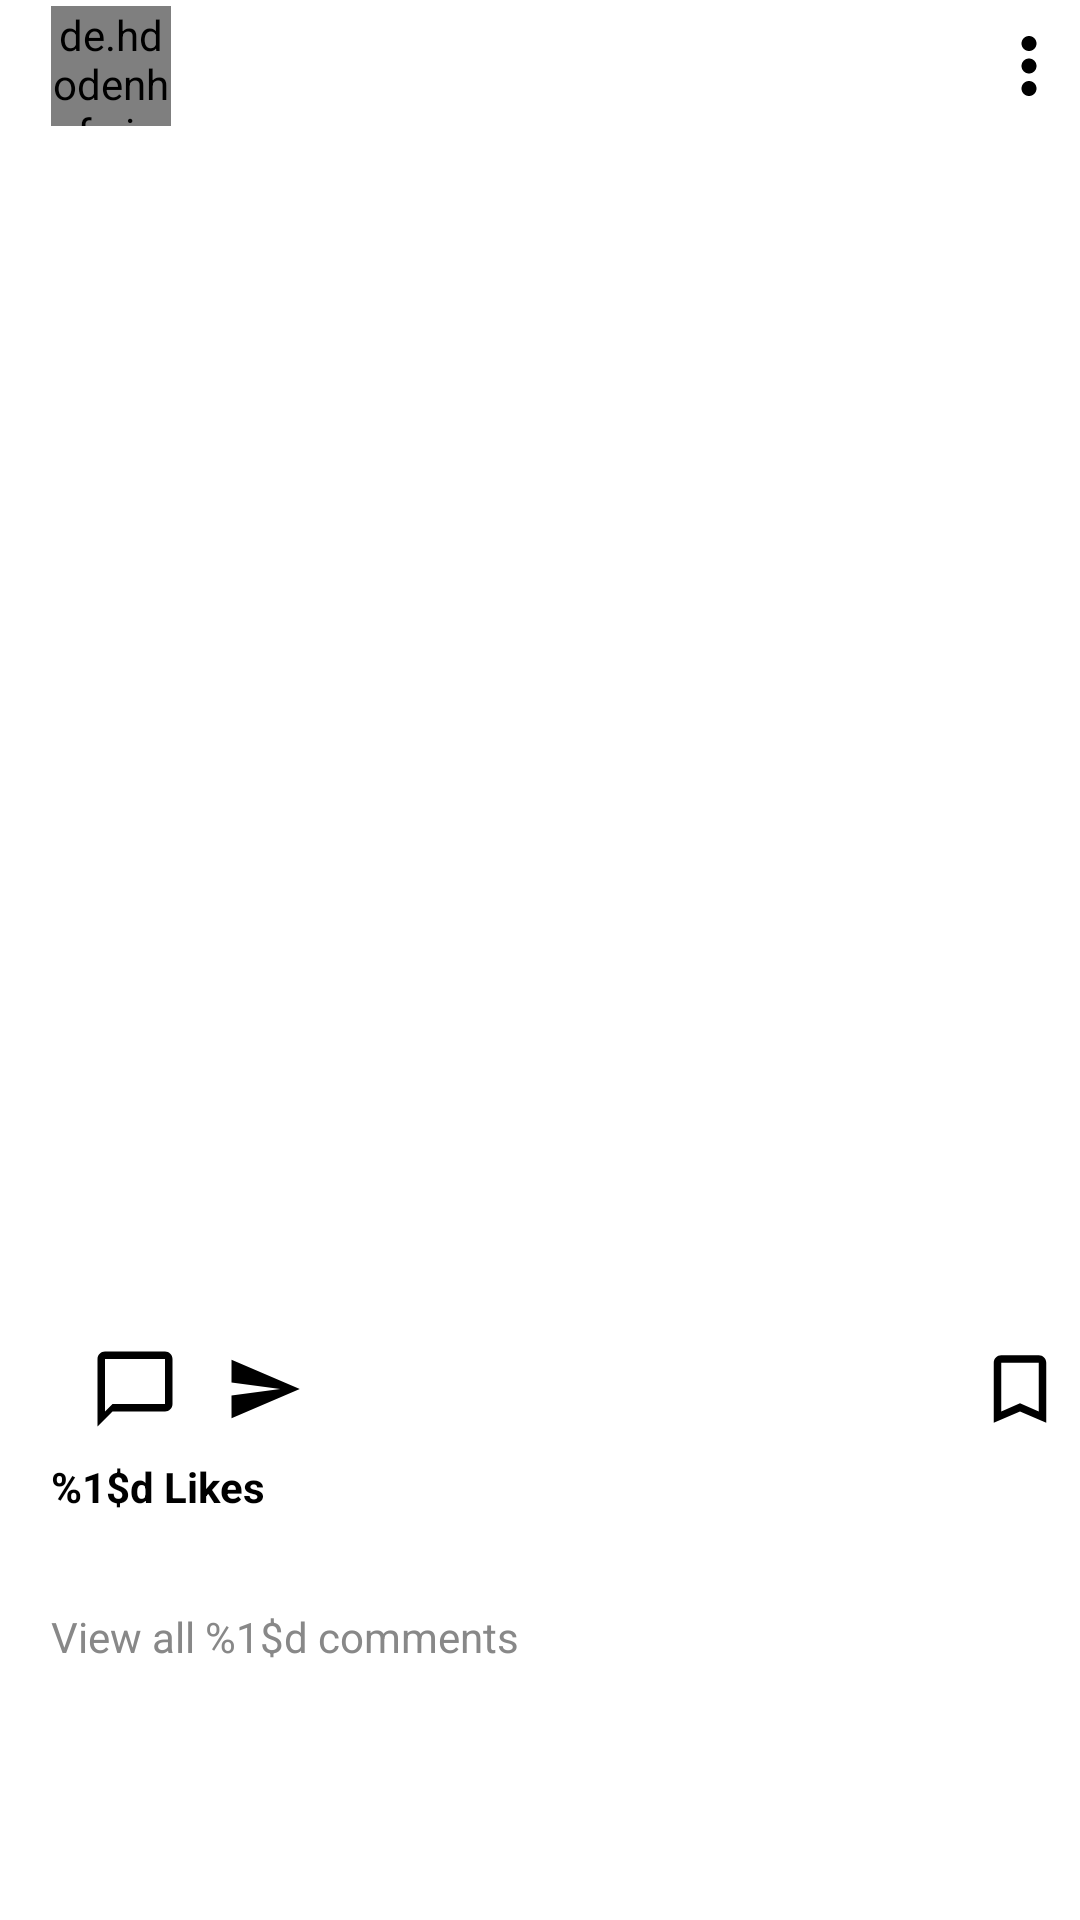

Locate icon controls on the screen. Image size 1080w x 1920h, boxes as (x1, y1, x2, y2).
chat bubble: (97, 1351, 173, 1427)
more post iv: (1021, 36, 1037, 96)
save: (993, 1355, 1047, 1423)
send: (231, 1360, 300, 1418)
